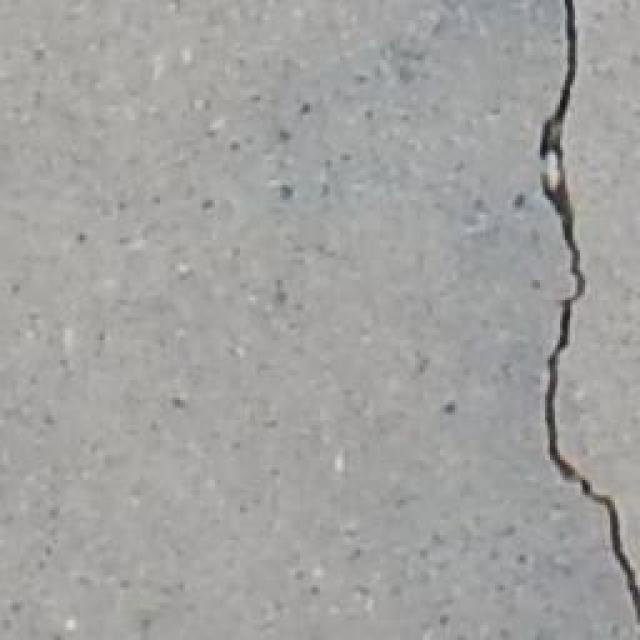concrete-crack: (532, 0, 640, 628)
